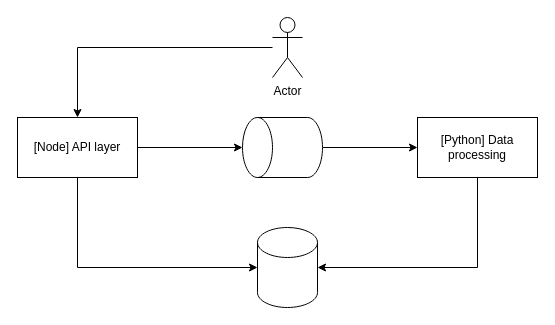
Image size: 555x325. Some labels were removed from this diagram. Here are the shapes that lost their labels. From the top down, the box of each, then its label:
(242, 116, 322, 178): SQS
(256, 226, 318, 308): DynamoDB
